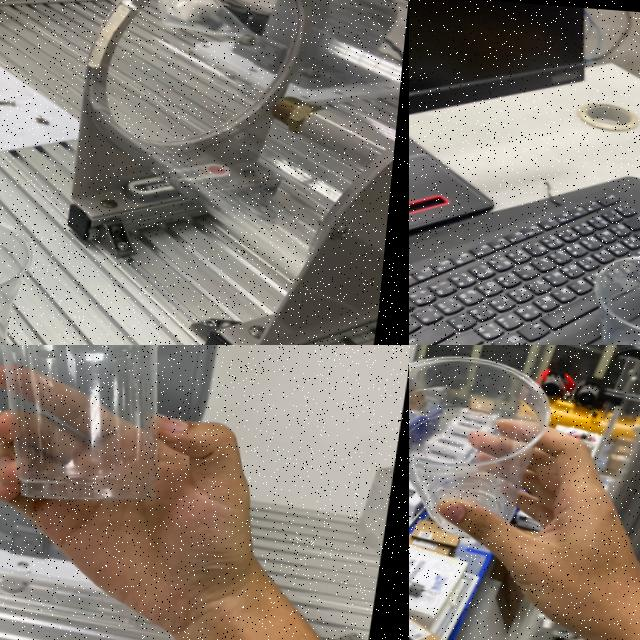glass: (0, 345, 211, 511), (409, 345, 565, 543), (0, 196, 52, 345), (578, 238, 640, 345)
